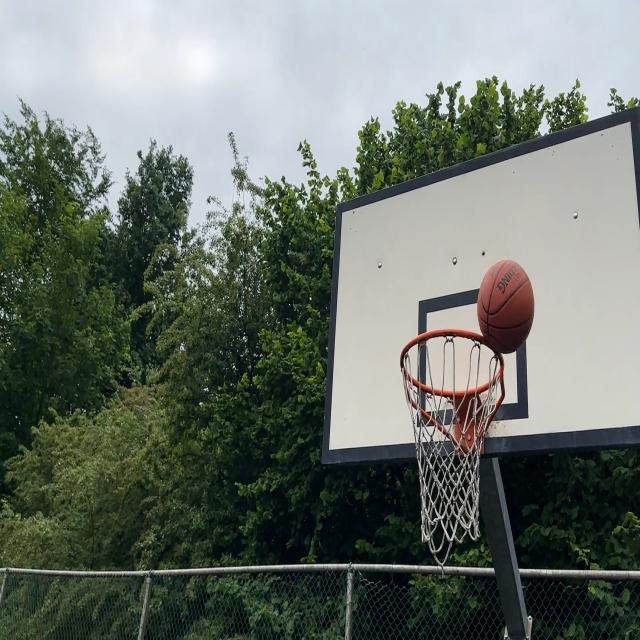rebound_hit: (475, 259, 535, 356)
